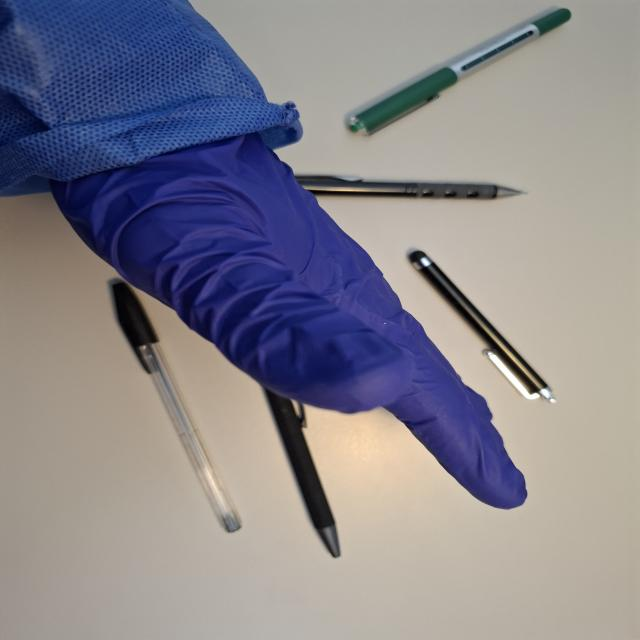glove_on: (39, 102, 533, 513)
